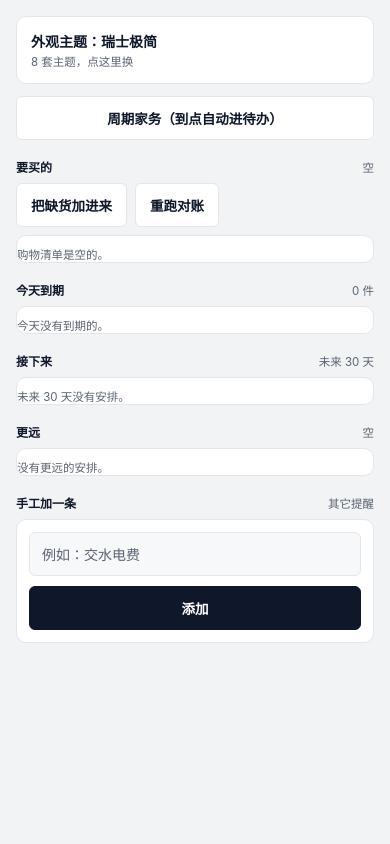
Test: 待办与采购闭环 › 主题面板列出 8 套主题并可切换
The width and height of the screenshot is (390, 844).
Click the text "外观主题：瑞士极简": (94, 41) [31, 31, 157, 51]
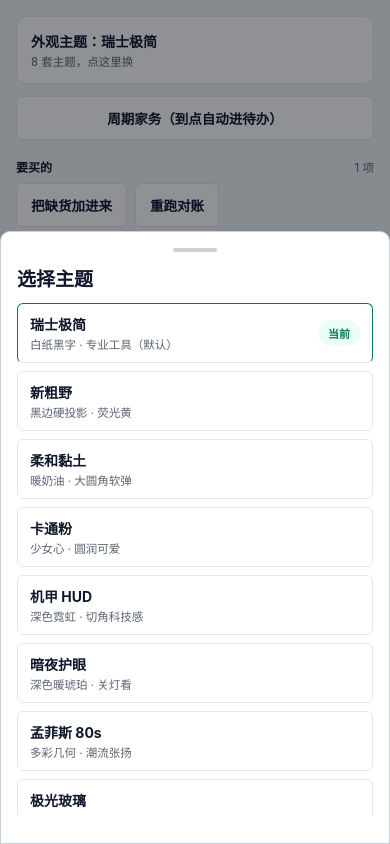
expect the text "选择主题" is shown: met, box [17, 268, 93, 291]
expect the text "瑞士极简" is shown: met, box [30, 316, 86, 333]
expect the text "新粗野" is shown: met, box [30, 384, 72, 401]
Click the text "机甲 HUD": (61, 596) [30, 588, 92, 605]
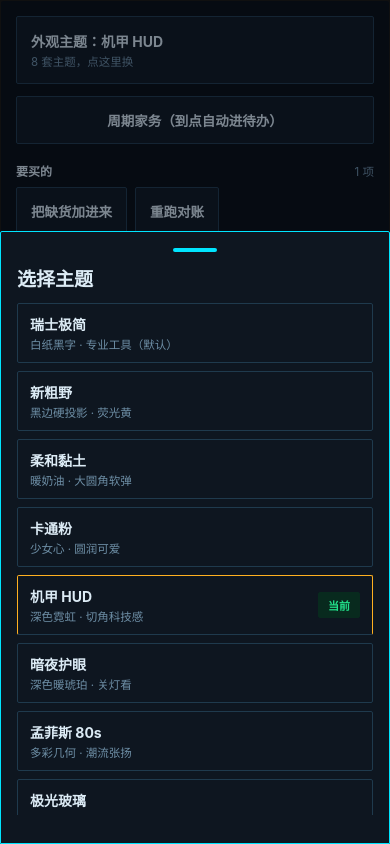
expect the text "外观主题：机甲 HUD" is shown: met, box [31, 31, 163, 51]
